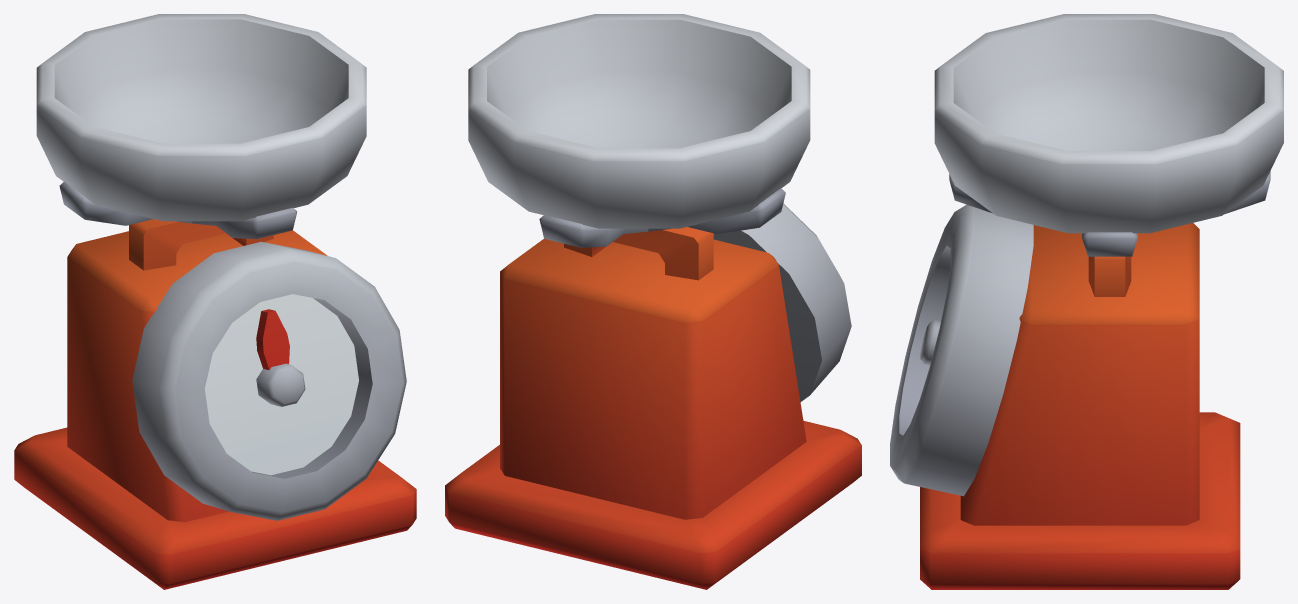
File: scale.glb
3 views of the same model, side by side, from view 1: azimuth 30°, elevation 25°; view 2: azimuth 150°, elevation 25°; view 3: azimuth 270°, elevation 25° (orthographic). The views are drawn at different scales.
Parts seen in each view (by area): view 1: scale; view 2: scale; view 3: scale.
Boxes of the visible parts, left/top/right/bottom form: scale: left=14, top=14, right=416, bottom=589; scale: left=445, top=14, right=861, bottom=589; scale: left=890, top=14, right=1283, bottom=589.
Bounding box in the file's own units: 0.6 × 0.8375 × 0.6763.
Materials: 1 (1 with a texture image).
